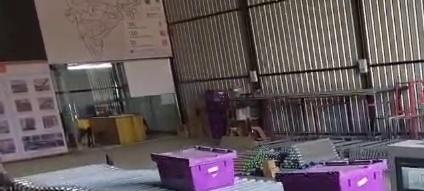box: (151, 146, 235, 190), (277, 160, 386, 190)
